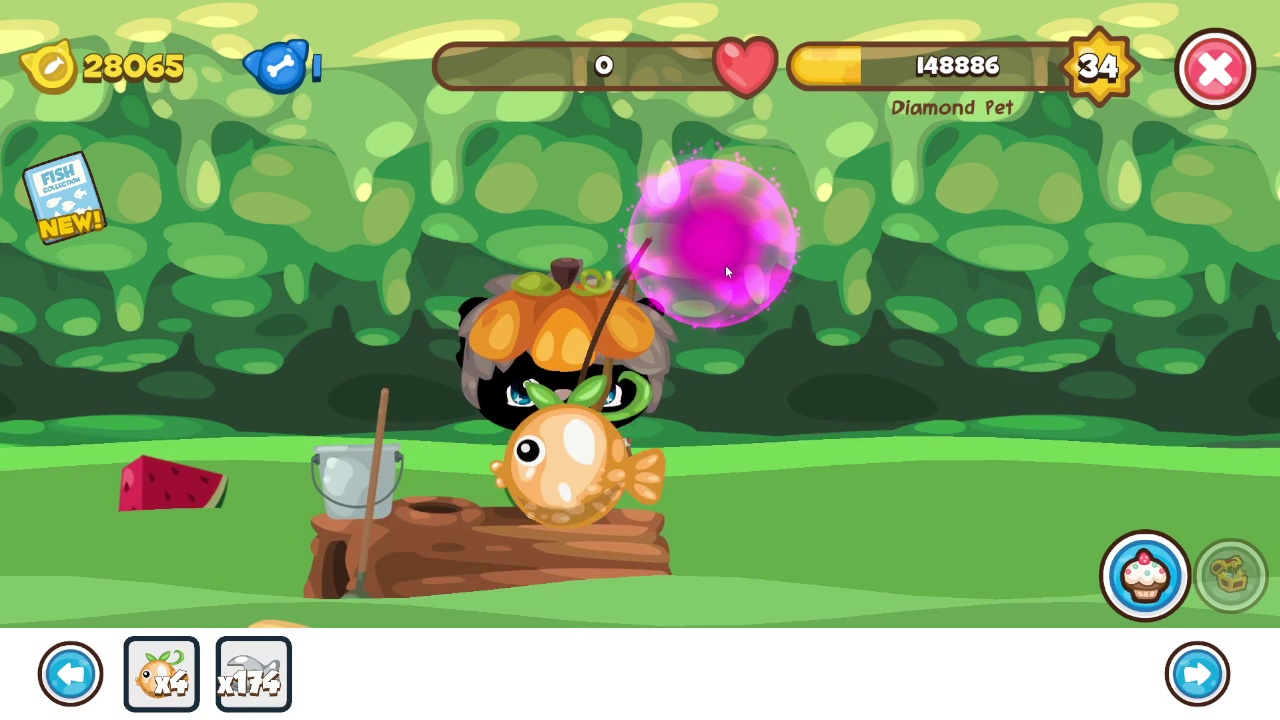point: (626, 157, 798, 327)
